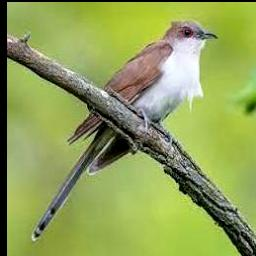Cuckoo: (31, 18, 217, 241)
